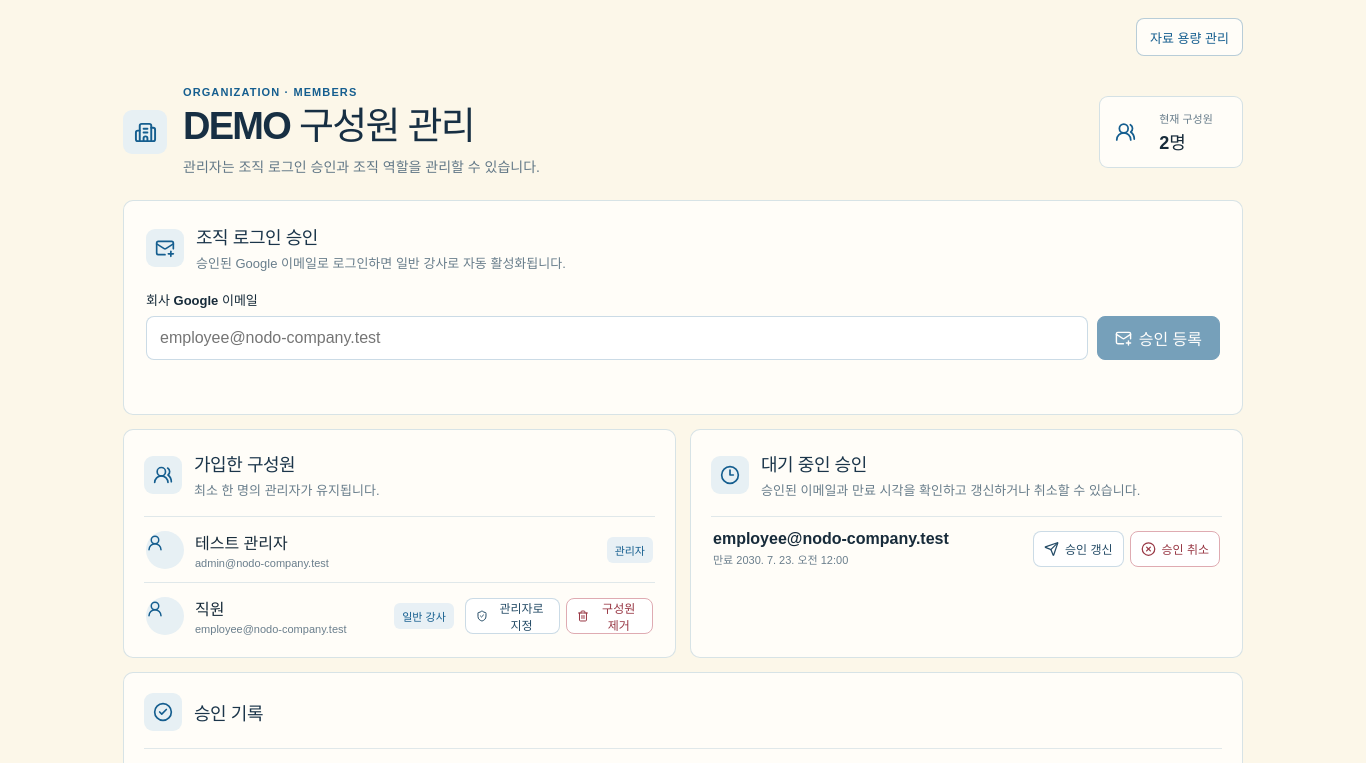
Test: 조직 구성원 관리 화면 › 제거 성공 뒤 구성원 목록과 인원 수를 즉시 갱신한다
Click the button with aria-label "직원 구성원 제거" at (610, 616), box [566,598,653,634]
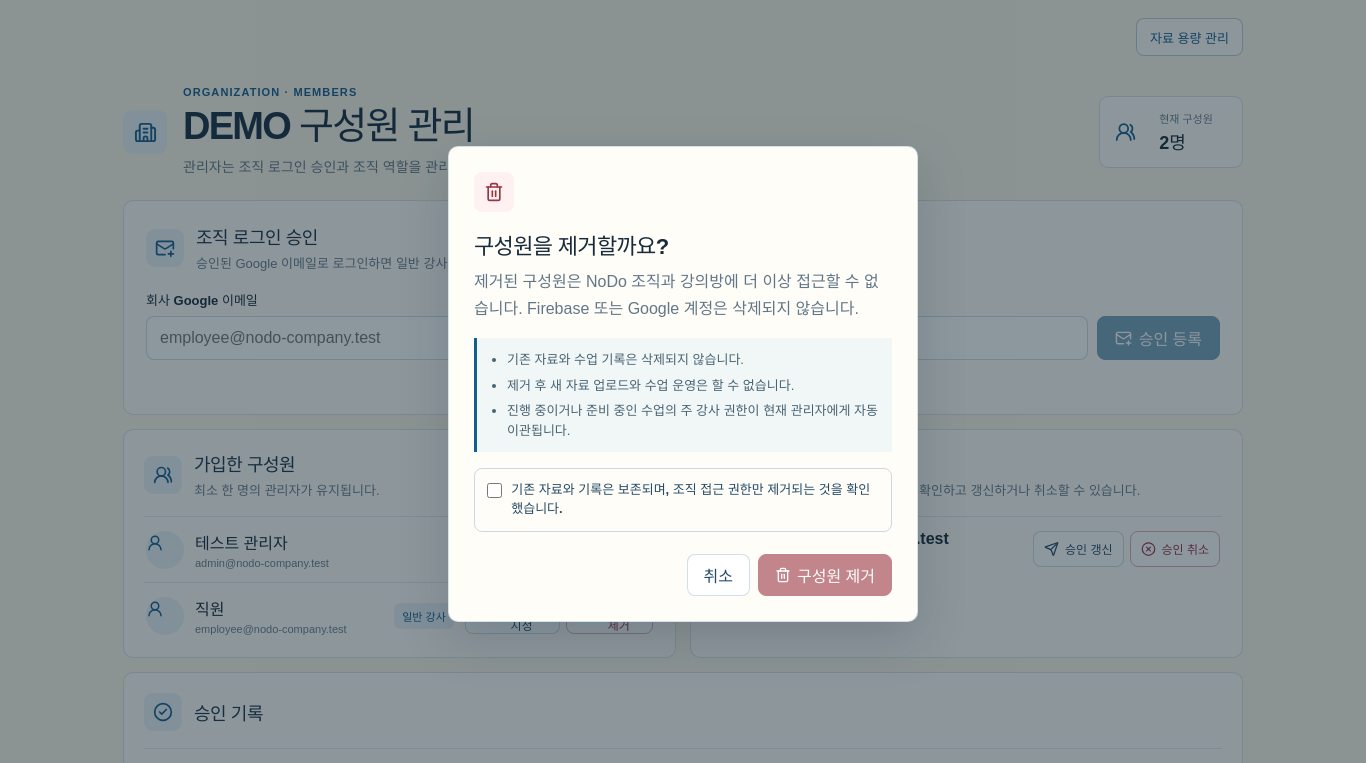
Click the checkbox at (495, 490), box [487,482,502,499]
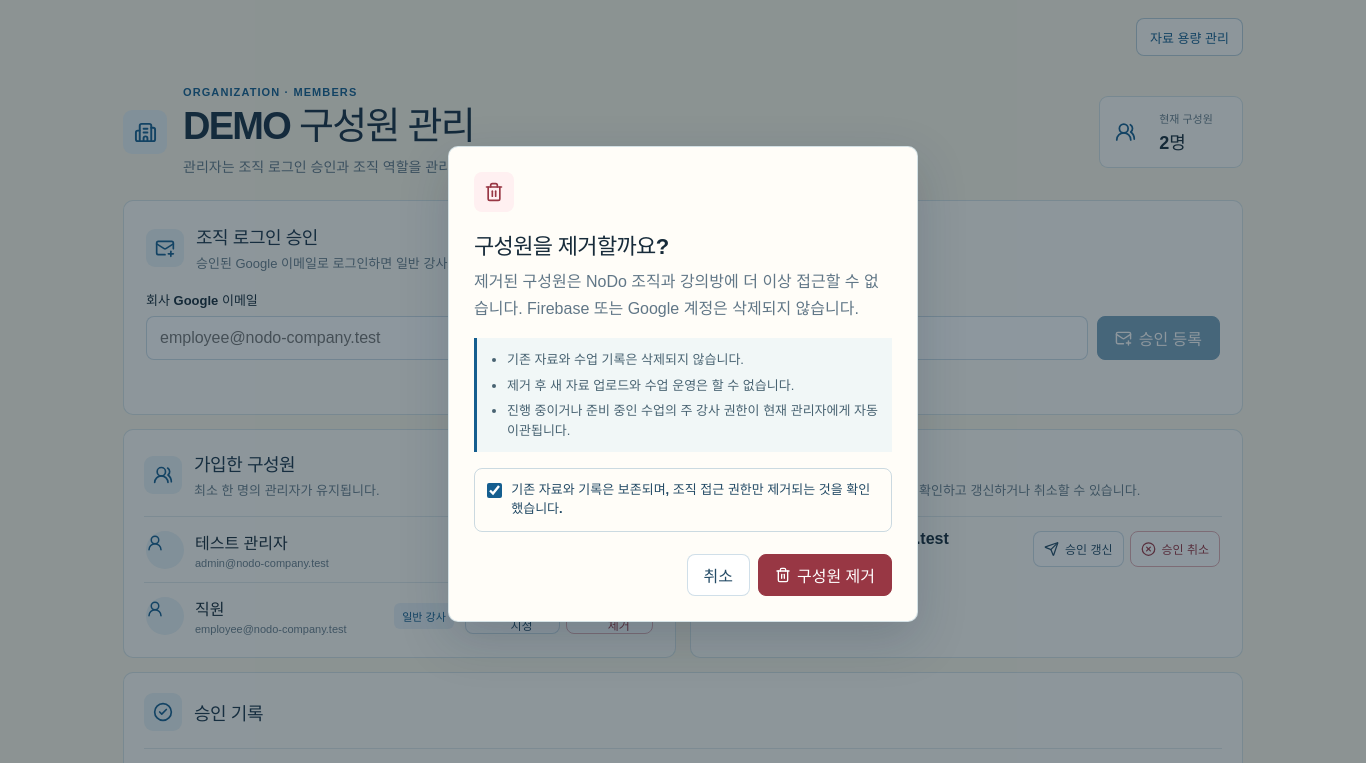
Click the button "구성원 제거" at (825, 575), box [758,554,892,596]
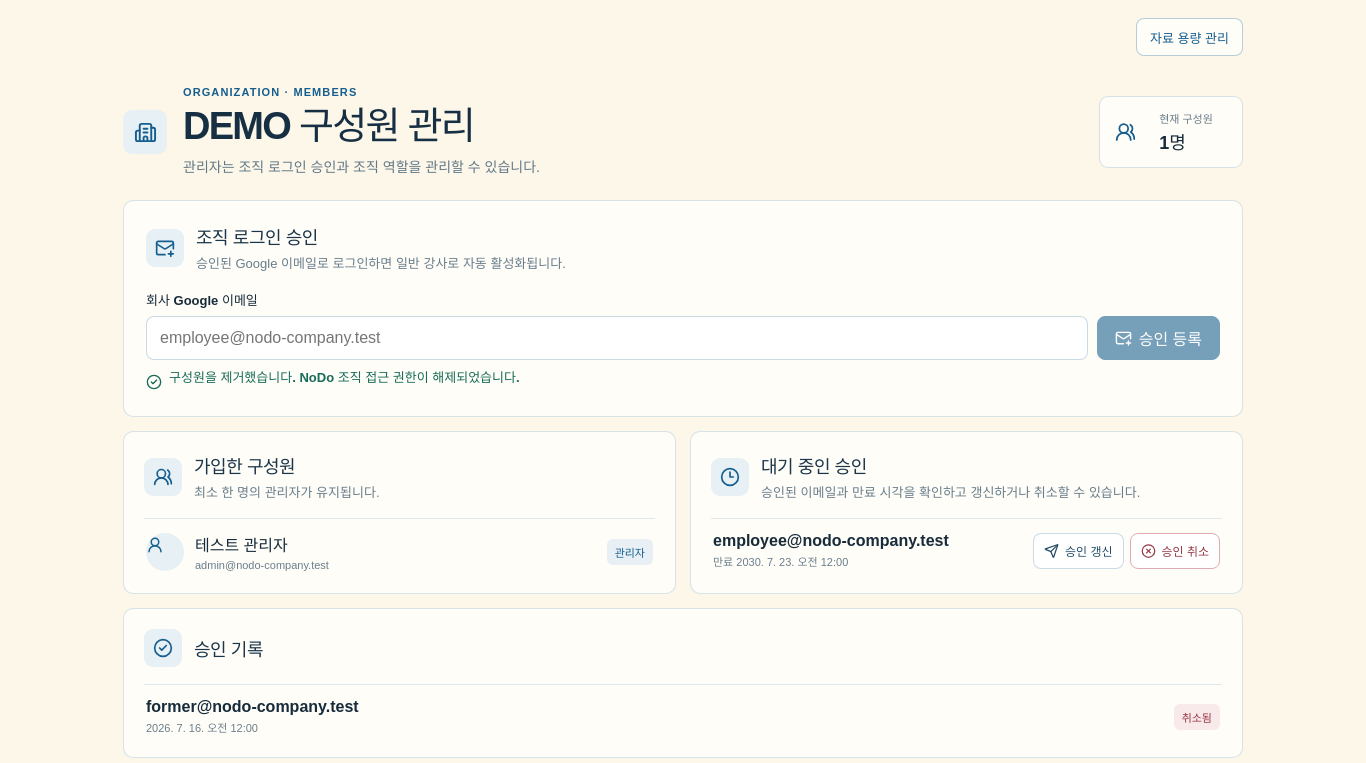
Result: the text "구성원을 제거했습니다. NoDo 조직 접근 권한이 해제되었습니다." is shown at [146,370,520,394]
Result: the text "직원" is gone
Result: the element named "현재 구성원 수" shows "1명" at [1099,96,1243,168]
